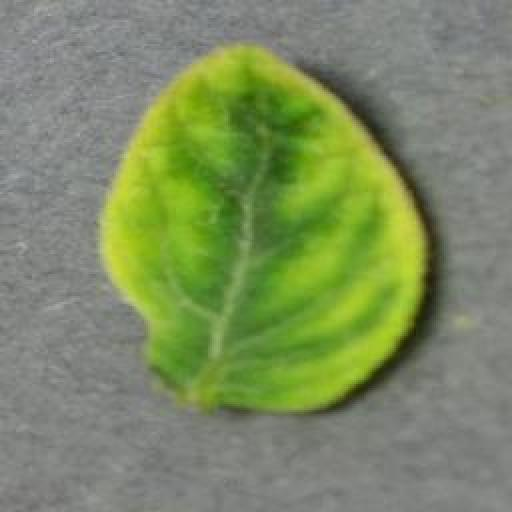disease_tomato: (98, 38, 424, 412)
